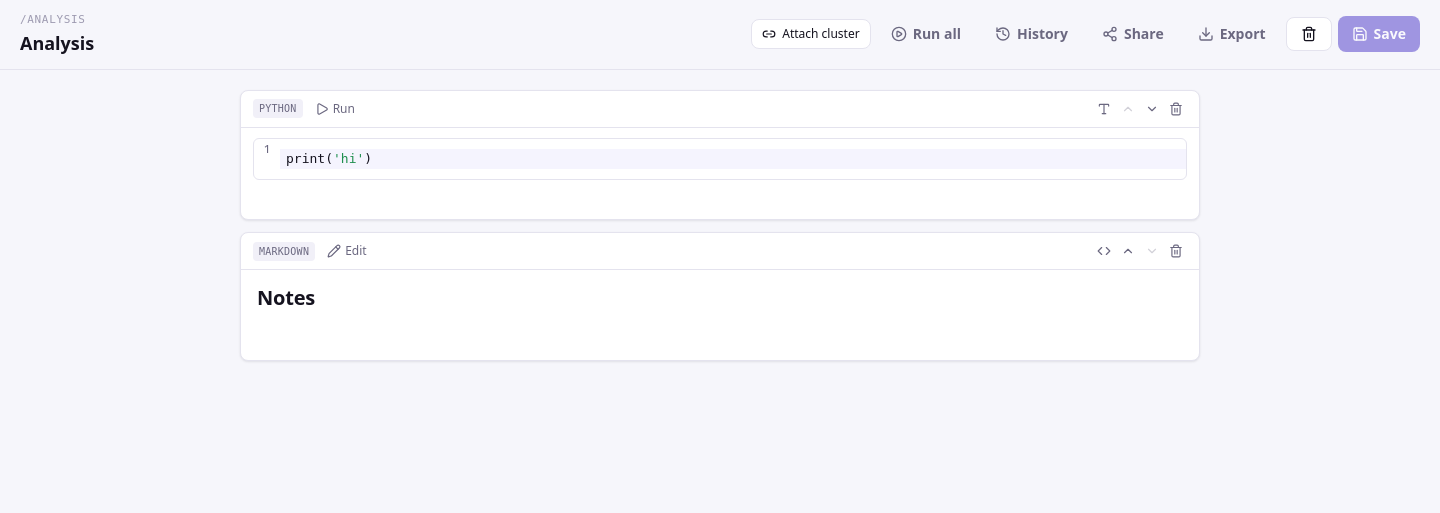
NotebookEditor — run (501 graceful state) › renders a successful run's stdout + table output
Expected: the heading "Analysis" is shown, [20,28,94,56]
Click the button with aria-label "run cell 1": x=335, y=108 [309,96,361,120]
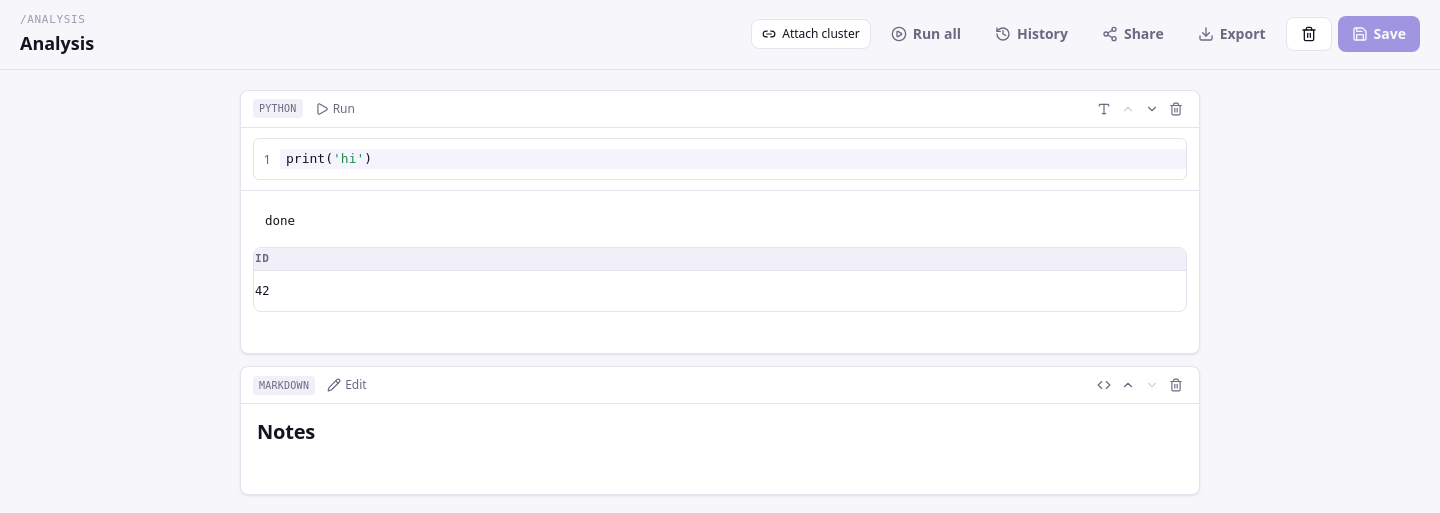
Result: the text "done" is shown at [265,213,295,228]
Result: the text "42" is shown at [254,270,1186,311]
